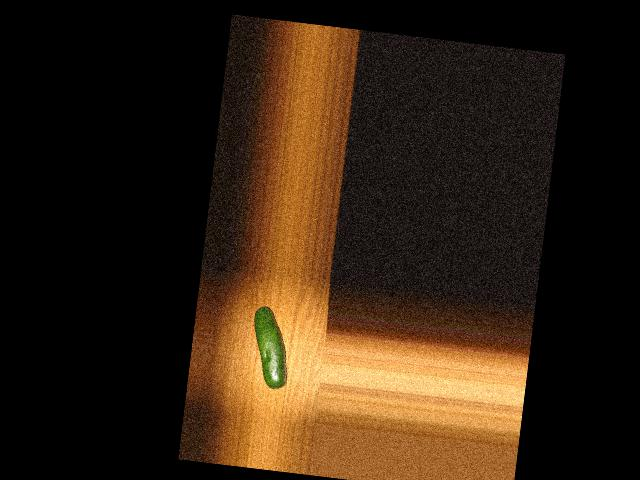cucumber: (247, 304, 295, 389)
